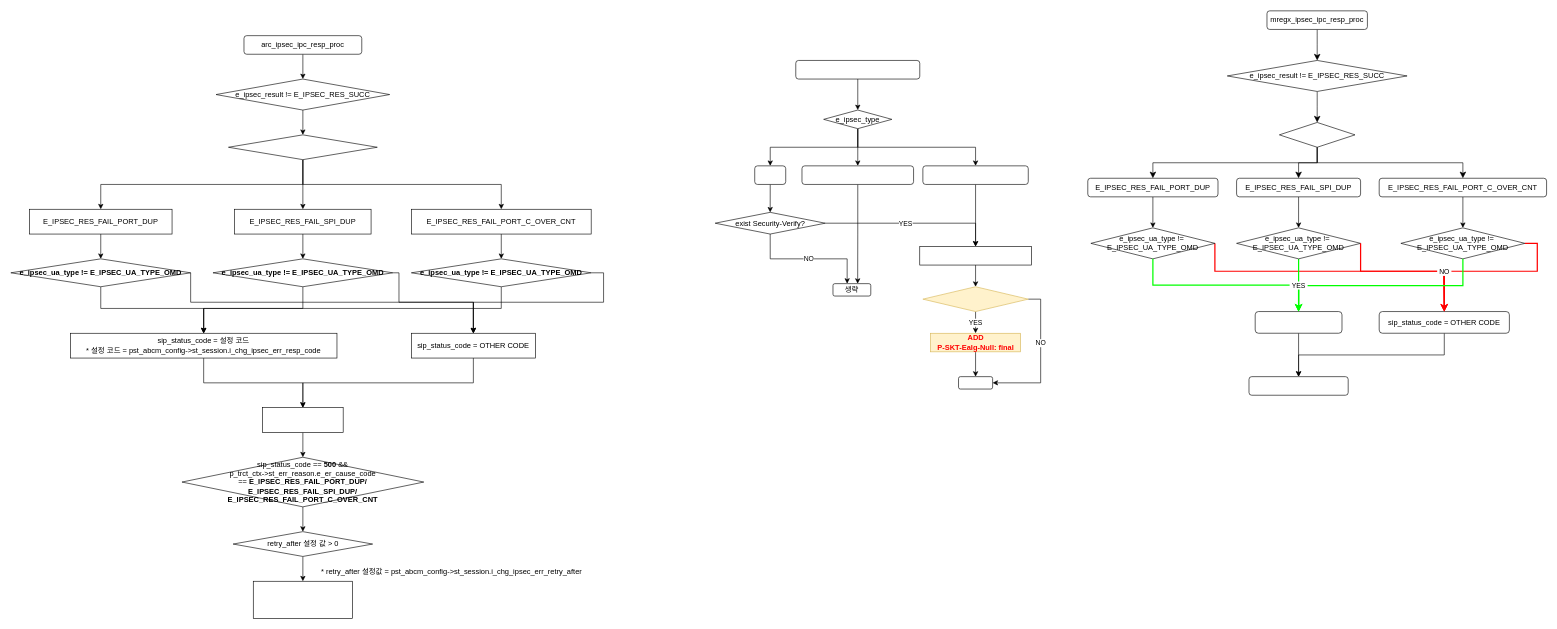
The diagram is 1557 pixels wide and 629 high, and some of its shapes have lost their labels. The box of each missing label's shape, as (x1, y1, x2, y2) in pixels:
Add integrity-protected="yes": (919, 246, 1031, 265)
arc_local_resp_proc: (262, 407, 343, 432)
e_ipsec_result: (1279, 122, 1355, 147)
E_IPSEC_TYPE_PROTECT: (922, 165, 1028, 184)
E_IPSEC_TYPE_UNPROTECT: (801, 165, 914, 184)
else: (754, 165, 786, 184)
END: (958, 376, 993, 389)
i_non_ipsec_soi_ctrl == On: (922, 286, 1028, 312)
mgrex_set_authorization_header: (795, 60, 920, 79)
mregx_local_resp_proc: (1248, 376, 1348, 395)
p_ipsec_resp->e_ipsec_result: (228, 134, 377, 160)
Retry-After 헤더 retry_after 설정 값으로 세팅: (253, 581, 352, 618)
sip_status_code = 406: (1255, 311, 1342, 333)
